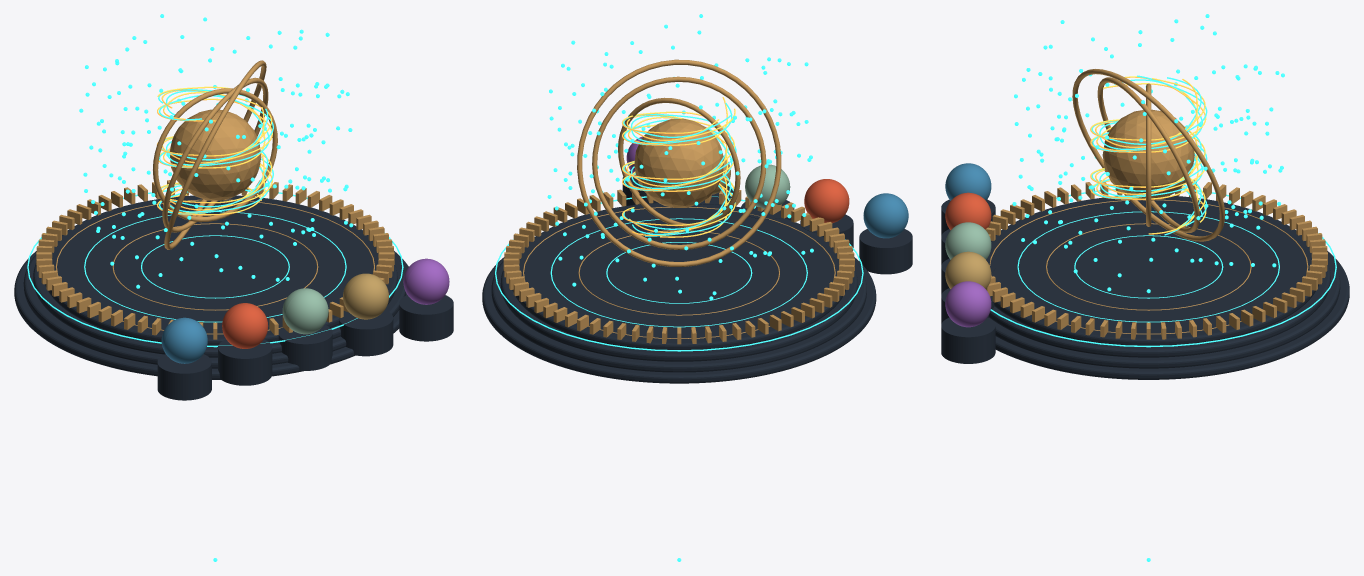
The model's file is asterion.glb.
The picture shows the model from 3 angles, left to right: view 1: azimuth 30°, elevation 25°; view 2: azimuth 150°, elevation 25°; view 3: azimuth 270°, elevation 25°; orthographic projection. The views are drawn at different scales.
Visible parts, largest first — view 1: Concentric_foundation_3, Heart___faceted_iridium, Concentric_foundation_0, Concentric_foundation_1, Concentric_foundation_2, Specimen_plinth_0, Specimen_plinth_4, Specimen_plinth_1, Specimen_plinth_3, Gimbal_0, Specimen_plinth_2, Gimbal_2 (+16 smaller); view 2: Concentric_foundation_3, Concentric_foundation_0, Heart___faceted_iridium, Concentric_foundation_1, Concentric_foundation_2, Gimbal_2, Gimbal_1, Specimen_plinth_0, Gimbal_0, BRDF_specimen_0, BRDF_specimen_1, BRDF_specimen_2 (+11 smaller); view 3: Concentric_foundation_3, Concentric_foundation_0, Heart___faceted_iridium, Concentric_foundation_1, Concentric_foundation_2, Gimbal_2, Specimen_plinth_4, BRDF_specimen_4, Gimbal_1, BRDF_specimen_0, BRDF_specimen_2, BRDF_specimen_3 (+14 smaller).
Part boxes in pixels (x1,y1,x2,y2): Concentric_foundation_3: (45, 195, 378, 345); Heart___faceted_iridium: (170, 109, 261, 200); Concentric_foundation_0: (14, 251, 408, 379); Concentric_foundation_1: (23, 254, 406, 368); Concentric_foundation_2: (33, 229, 397, 357); Specimen_plinth_0: (157, 354, 211, 400); Specimen_plinth_4: (399, 295, 453, 341); Specimen_plinth_1: (218, 339, 272, 385); Specimen_plinth_3: (339, 310, 393, 356); Gimbal_0: (153, 88, 277, 222); Specimen_plinth_2: (278, 324, 332, 370); Gimbal_2: (164, 60, 266, 249); Concentric_foundation_3: (512, 203, 845, 349); Concentric_foundation_0: (482, 257, 876, 383); Heart___faceted_iridium: (634, 118, 723, 207); Concentric_foundation_1: (491, 261, 866, 372); Concentric_foundation_2: (500, 236, 857, 361); Gimbal_2: (577, 59, 781, 266); Gimbal_1: (592, 76, 766, 249); Specimen_plinth_0: (859, 229, 912, 274); Gimbal_0: (618, 97, 740, 228); BRDF_specimen_0: (863, 193, 908, 238); BRDF_specimen_1: (804, 179, 849, 223); BRDF_specimen_2: (745, 164, 790, 209); Concentric_foundation_3: (987, 195, 1318, 345); Concentric_foundation_0: (995, 251, 1349, 379); Heart___faceted_iridium: (1102, 109, 1194, 200); Concentric_foundation_1: (989, 254, 1340, 368); Concentric_foundation_2: (989, 229, 1330, 357); Gimbal_2: (1072, 69, 1224, 241); Specimen_plinth_4: (941, 317, 995, 363); BRDF_specimen_4: (945, 281, 991, 327); Gimbal_1: (1097, 77, 1199, 232); BRDF_specimen_0: (945, 163, 991, 200); BRDF_specimen_2: (945, 222, 991, 259); BRDF_specimen_3: (945, 251, 991, 289).
Size of what is drawn, in the model's own units: 6.8 by 9.39 by 6.91.
